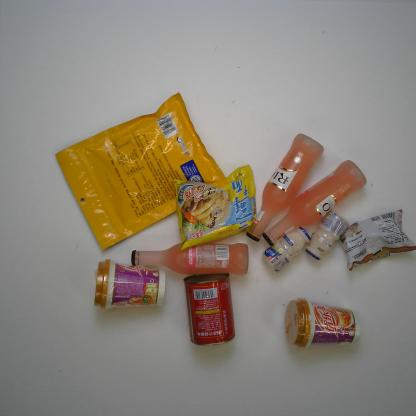Alcohol: (264, 161, 371, 253), (248, 133, 323, 242), (130, 238, 249, 279)
Canned Food: (173, 270, 246, 342)
Dried Fruit: (53, 87, 225, 242)
Instant Drink: (276, 296, 366, 348), (92, 257, 161, 311)
Instant Noodles: (166, 164, 258, 244)
Milk: (306, 204, 350, 260), (268, 222, 307, 274)
Seasoner: (342, 210, 415, 272)
